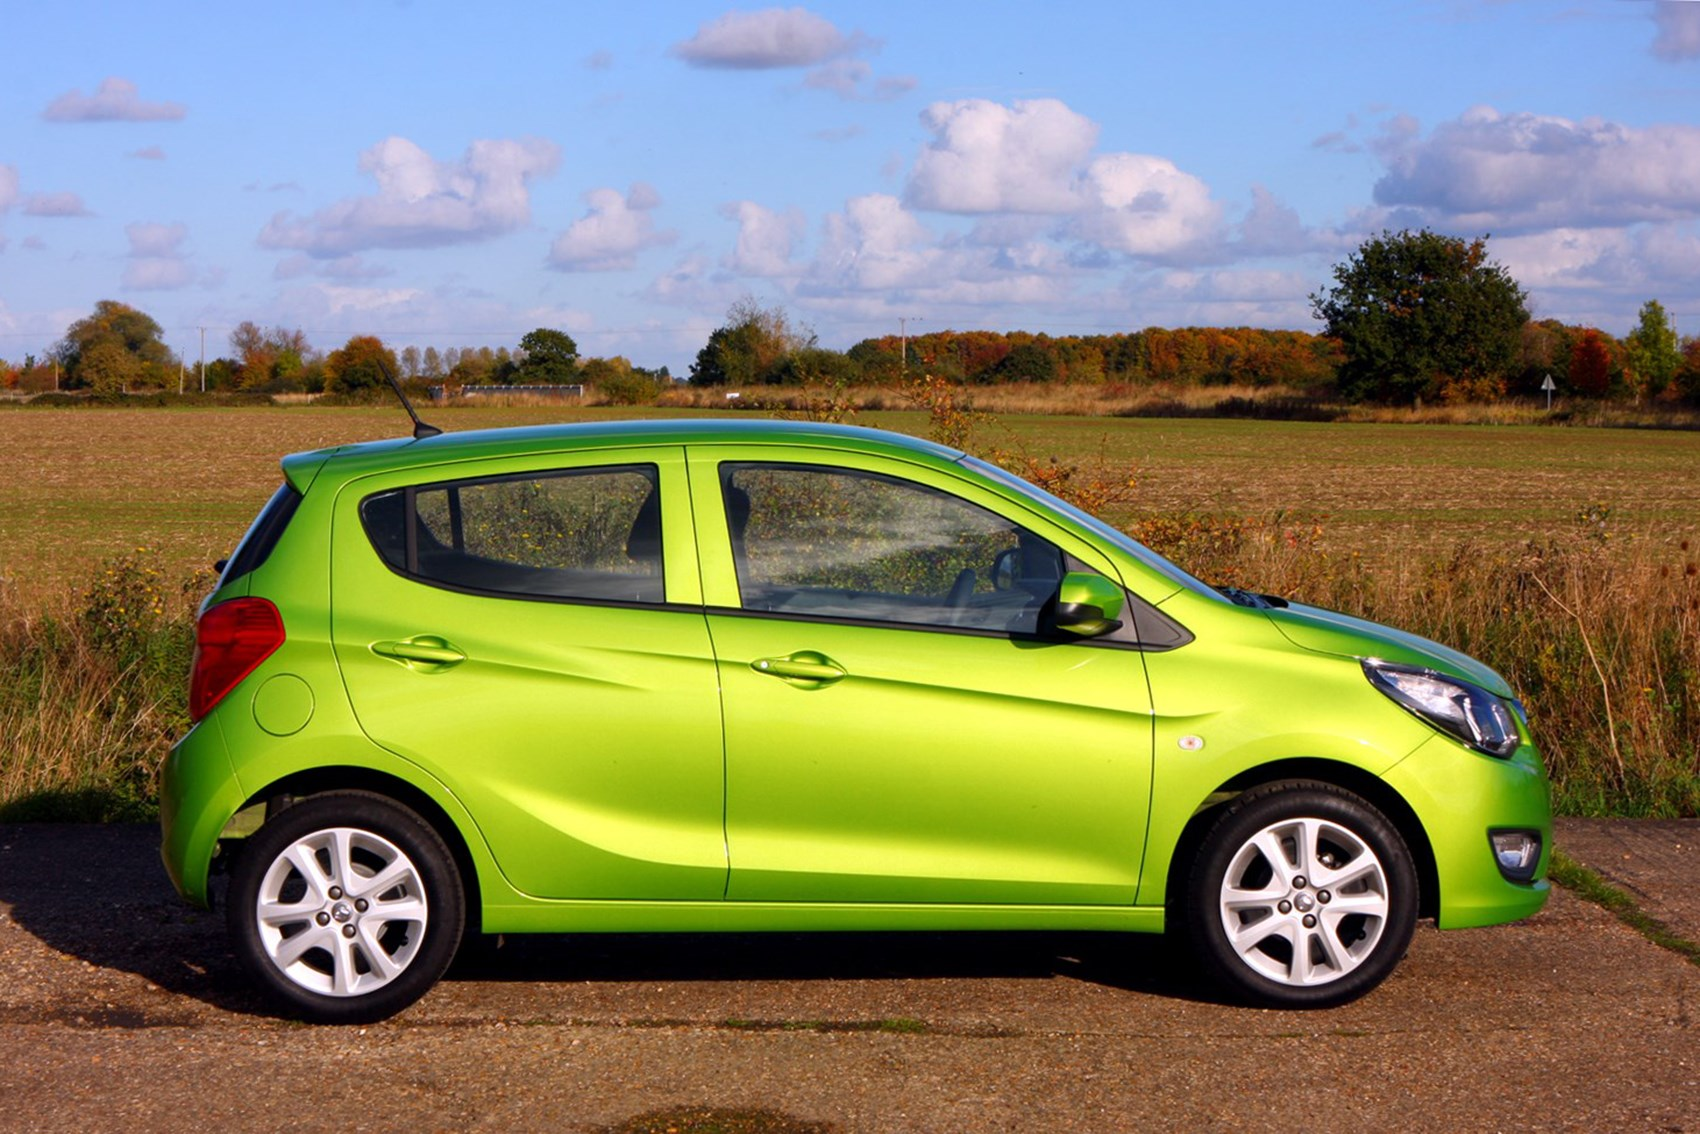Carro: (142, 389, 1557, 1004)
